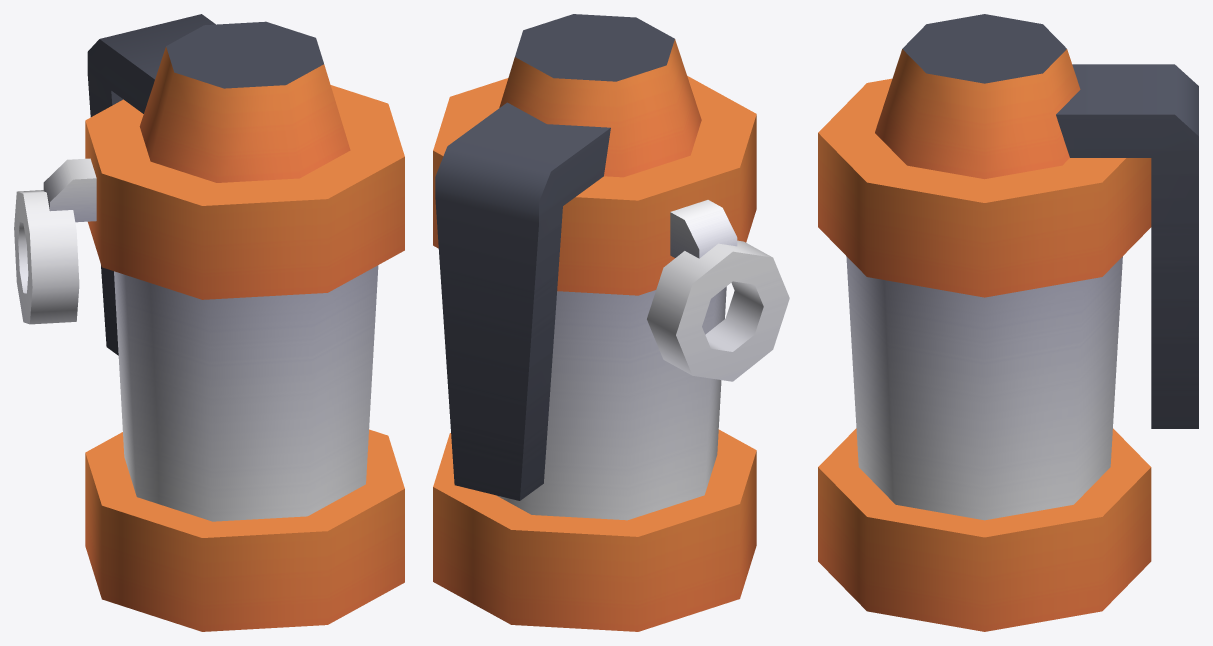
File: grenade-a.glb
3 renders of one model, left to right at view 1: azimuth 30°, elevation 25°; view 2: azimuth 150°, elevation 25°; view 3: azimuth 270°, elevation 25°, orthographic.
Visible parts, largest first — view 1: grenade-a; view 2: grenade-a; view 3: grenade-a.
Part boxes in pixels (box(x1,y1,x2,y2)): grenade-a: box(14, 14, 404, 631); grenade-a: box(433, 14, 789, 631); grenade-a: box(818, 14, 1198, 631).
Size of the model in its own units: 0.1689 by 0.2377 by 0.1599.
1 material, 1 textured.
